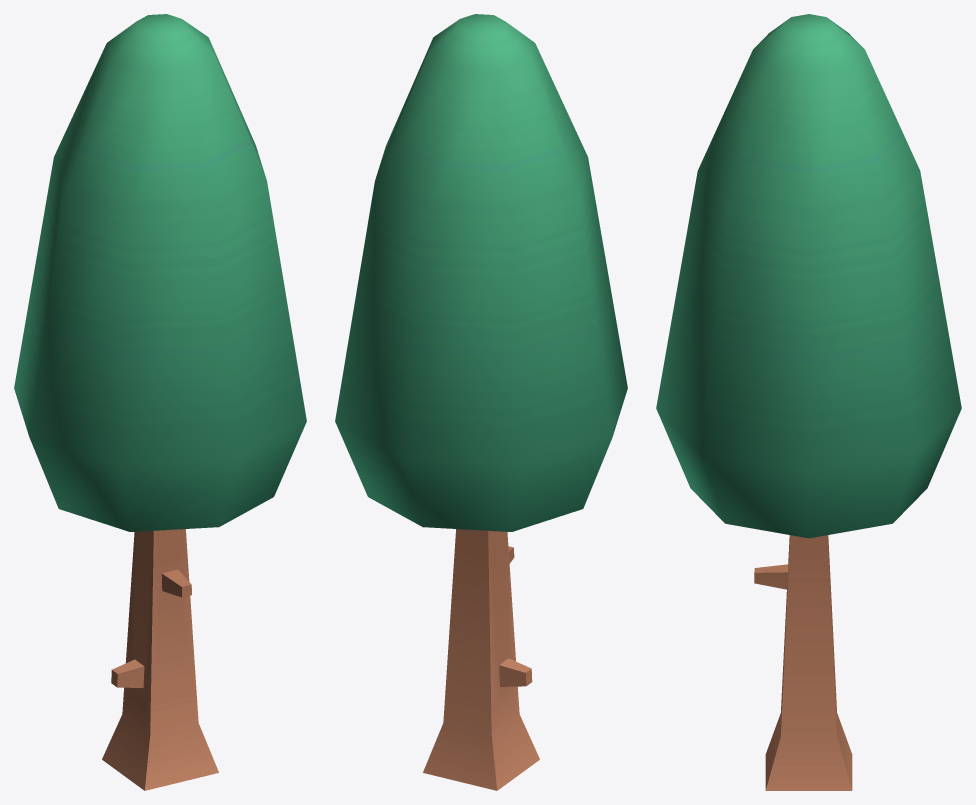
The model's file is tree-high-round.fbx.
3 renders of one model, left to right at view 1: azimuth 30°, elevation 25°; view 2: azimuth 150°, elevation 25°; view 3: azimuth 270°, elevation 25°, orthographic.
Visible parts, largest first — view 1: tree-high-round; view 2: tree-high-round; view 3: tree-high-round.
Part boxes in pixels (bbox=[...]): tree-high-round: bbox=[14, 14, 306, 790]; tree-high-round: bbox=[335, 14, 627, 790]; tree-high-round: bbox=[656, 14, 961, 790].
Size of the model in its own units: 102 by 275 by 102.
Materials: 1 (1 with a texture image).
